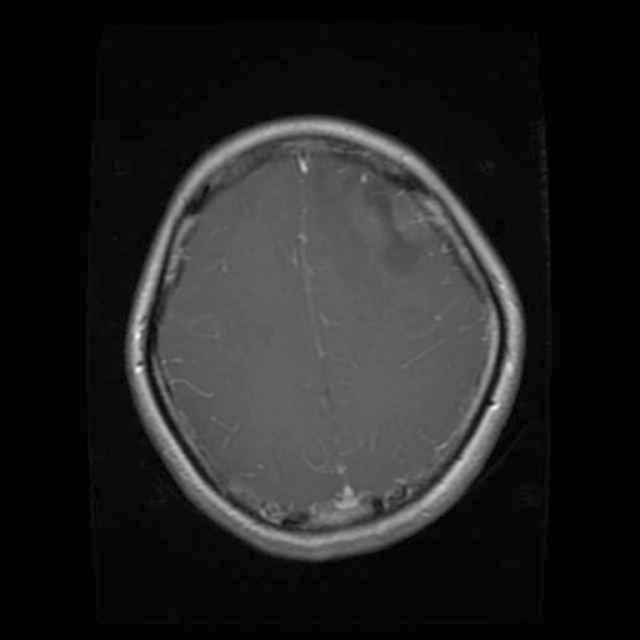pituitary tumor: (378, 186, 452, 255)
